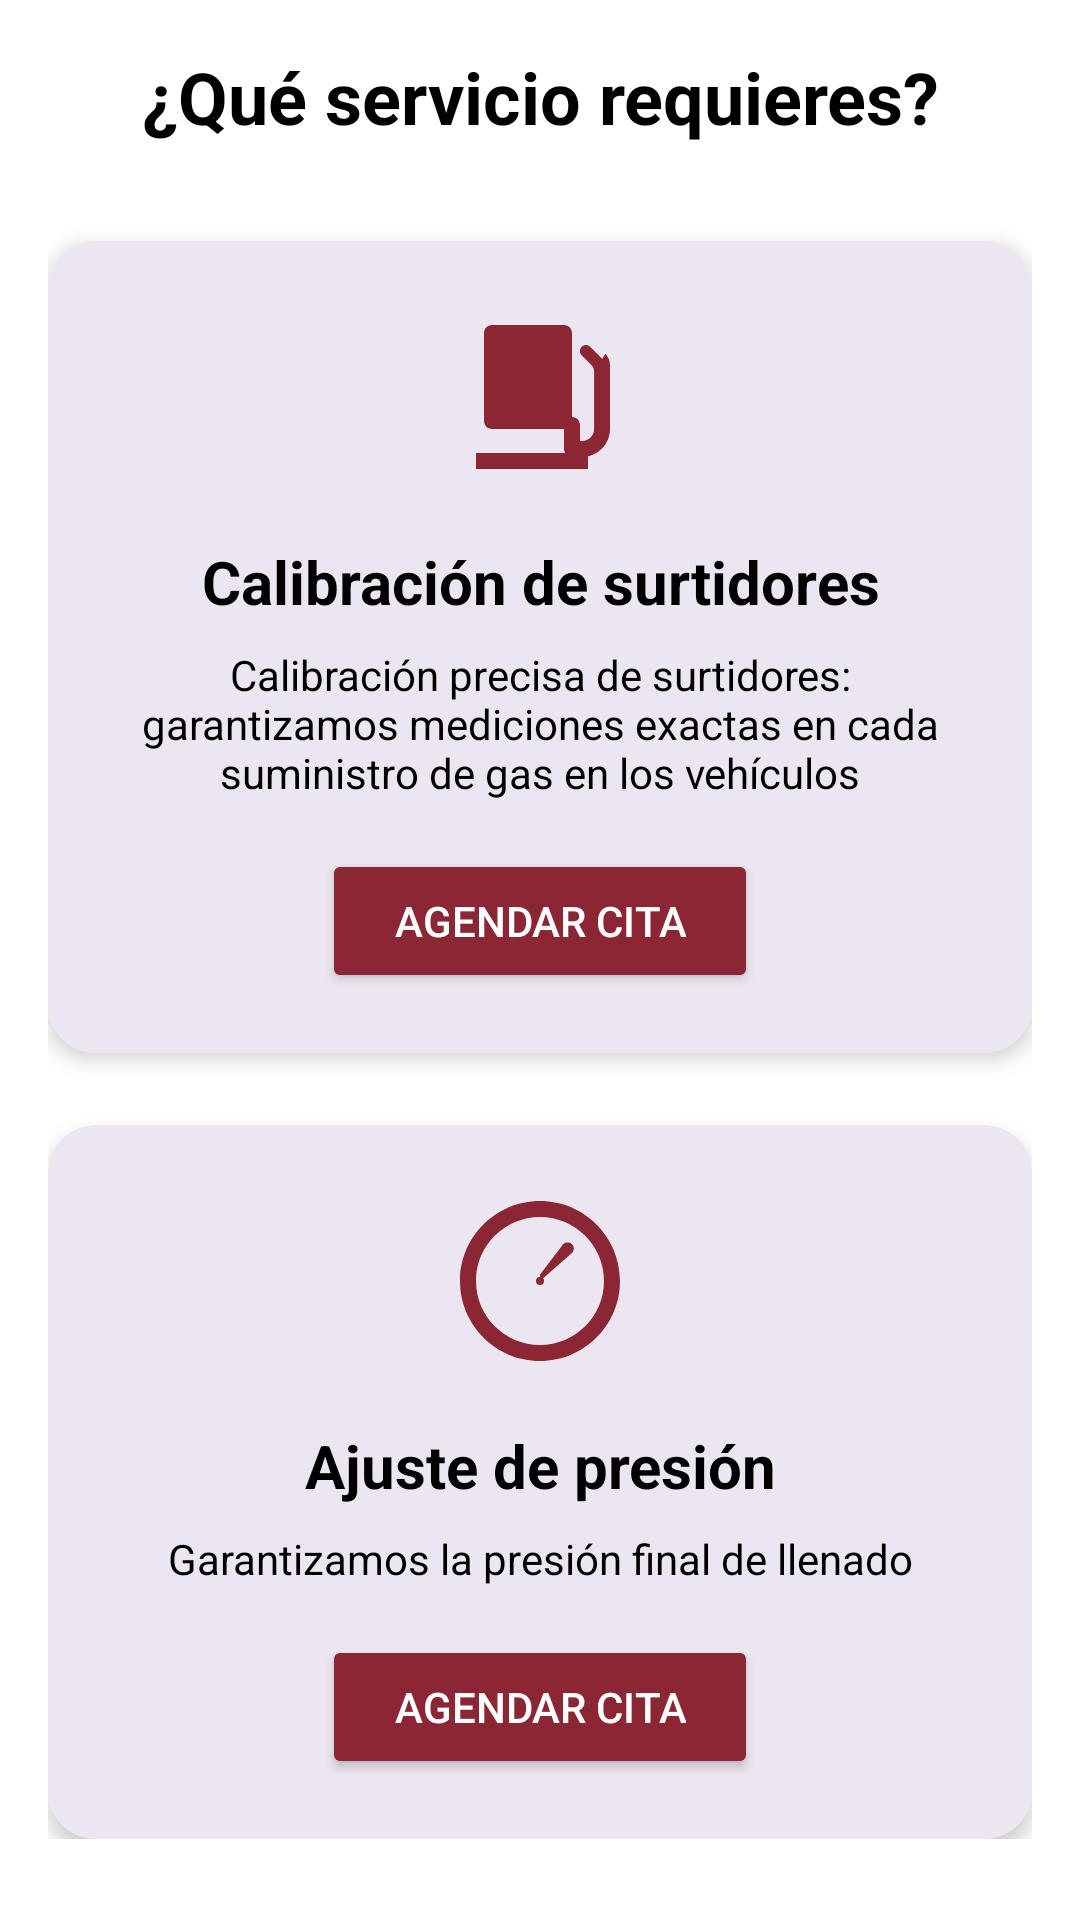

Where to tap for icons on this 1080w x 1920h app screen, as (x=x, y=y):
ajuste presion: (x=540, y=1281)
calibracion surtidores: (x=543, y=397)
